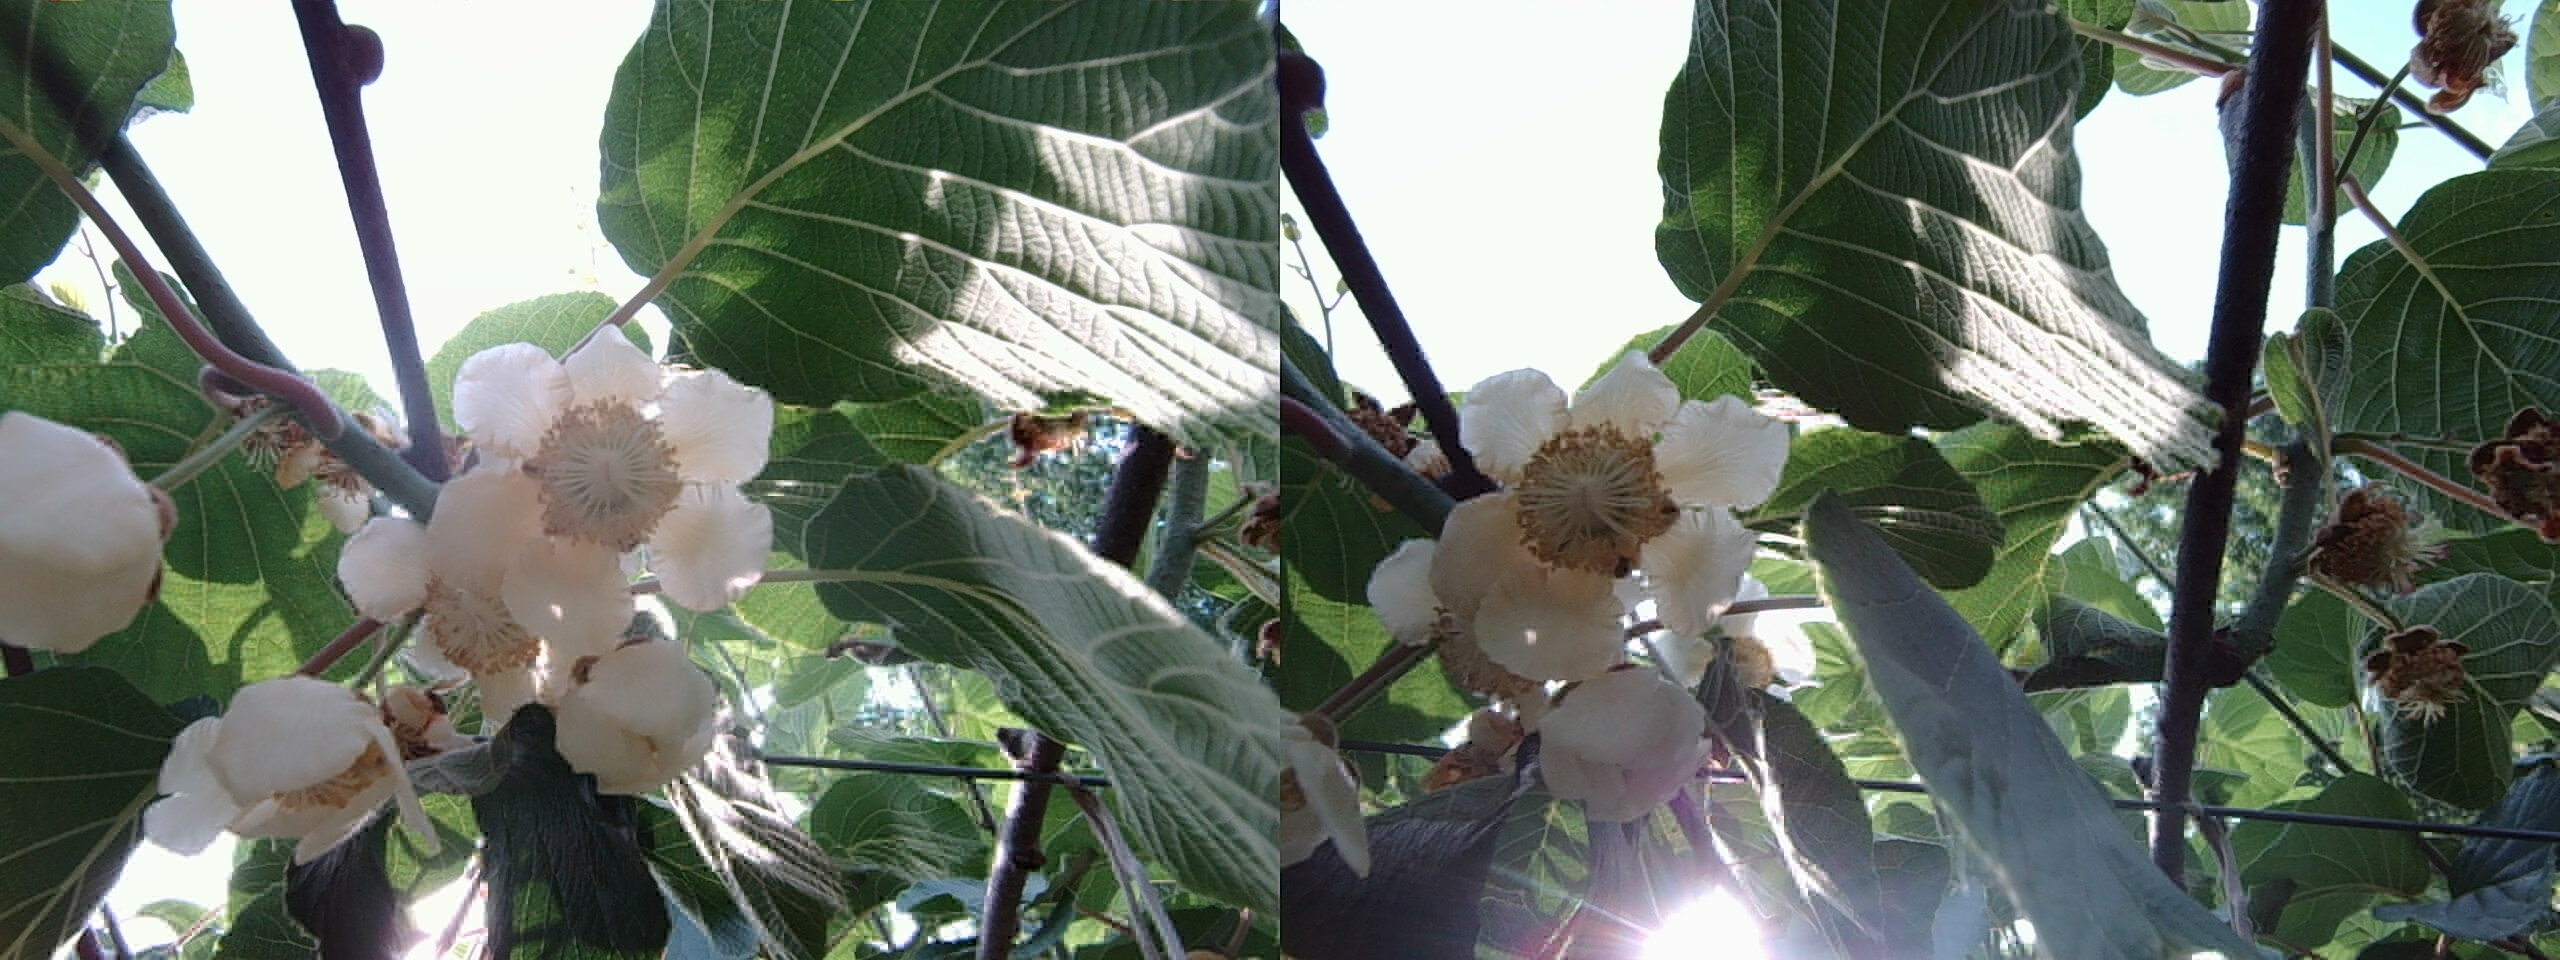flower: (436, 320, 758, 617), (1430, 353, 1745, 651), (353, 495, 578, 694), (167, 682, 413, 851)
